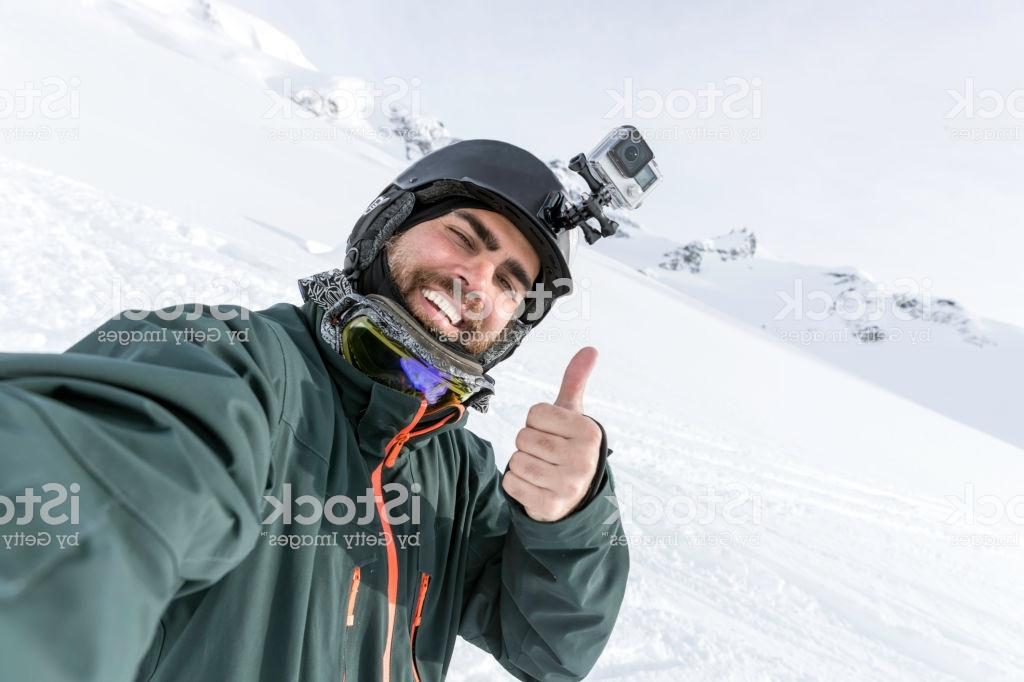thumbsup: (498, 344, 606, 524)
